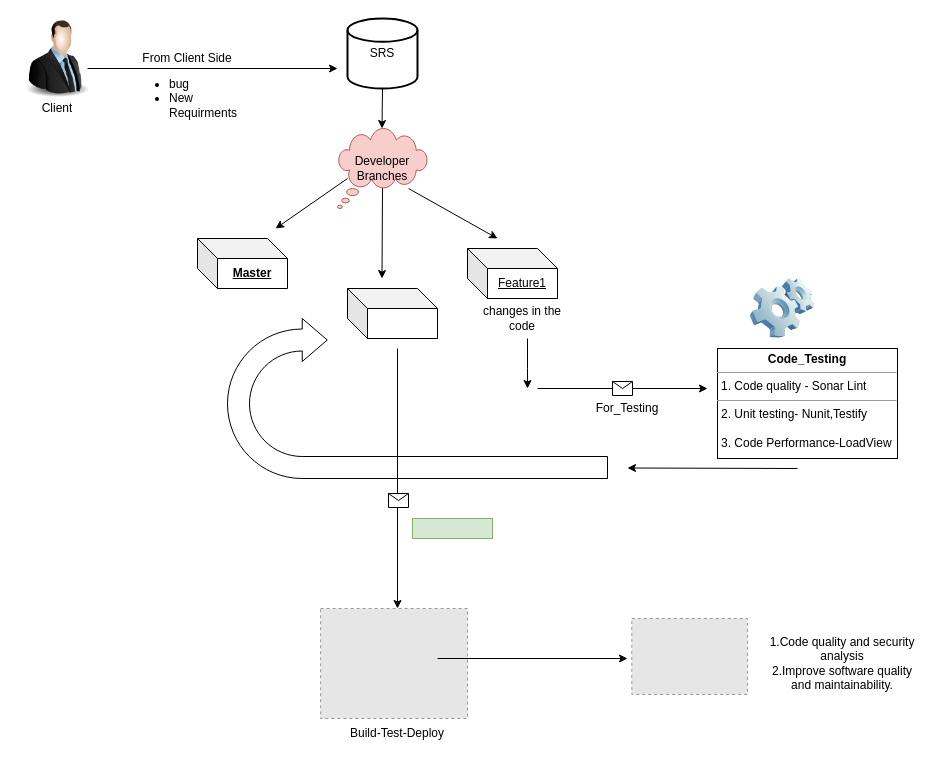
Some shapes in this 934 by 765 pixel diagram are drawn without their labels. Grey dashed boxes stand in for pictures. The shapes that lost their labels are listed below. From the top down, each one's box as (x1, y1, x2, y2) in pixels, then its label:
(346, 288, 438, 338): Realese
(226, 318, 608, 478): After Testing we are send our code to another branch
(412, 518, 492, 538): Pull-Request
